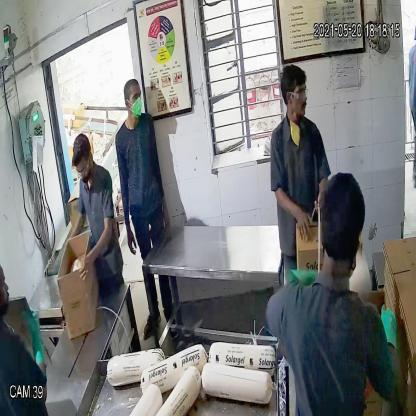goggles: (280, 86, 310, 104), (72, 162, 92, 178)
no_goggles: (123, 91, 143, 107)
